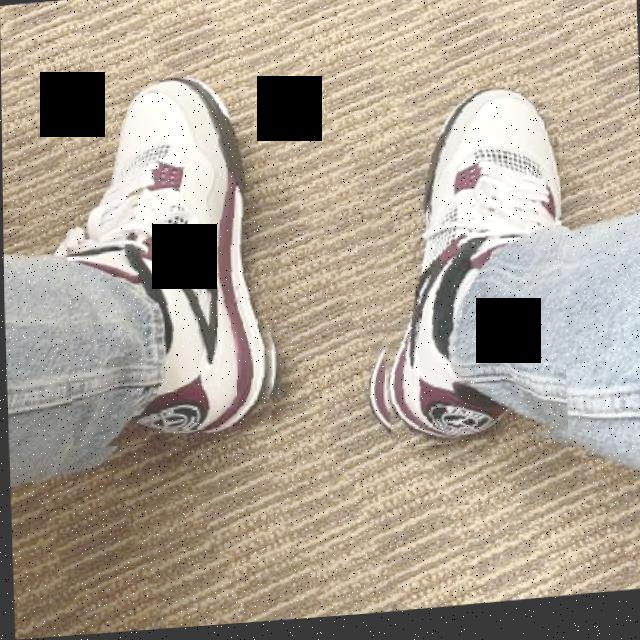shoe: (60, 69, 284, 452), (357, 89, 566, 457)
